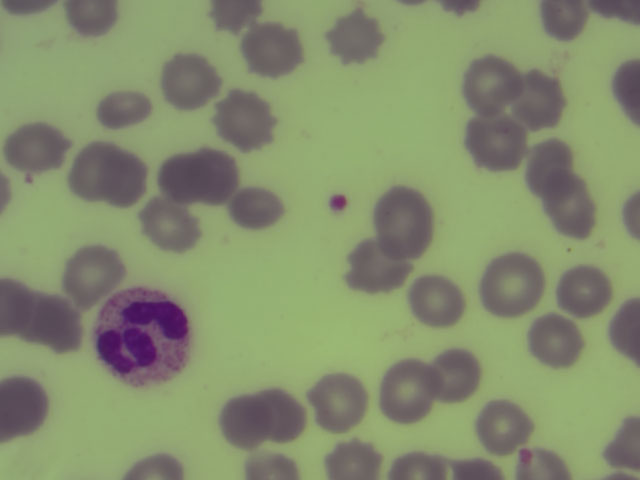Platelets: (330, 196, 346, 210)
RBC: (368, 182, 434, 256), (478, 250, 544, 317), (309, 367, 368, 430), (161, 51, 219, 107), (6, 120, 64, 176), (64, 247, 122, 303), (142, 198, 200, 254), (216, 90, 274, 146), (244, 21, 302, 77), (227, 177, 285, 233), (345, 240, 403, 296), (559, 259, 617, 315), (526, 312, 584, 368), (408, 273, 466, 329), (328, 11, 386, 67), (515, 71, 573, 127), (461, 55, 519, 111), (467, 112, 525, 168), (475, 396, 533, 452), (380, 358, 431, 418), (546, 175, 595, 237), (31, 296, 85, 352), (325, 424, 379, 480), (262, 380, 316, 436), (219, 392, 273, 448), (432, 346, 486, 402), (524, 135, 574, 194), (1, 373, 48, 434), (72, 140, 121, 198), (100, 153, 147, 206), (605, 59, 640, 130), (200, 150, 243, 207), (599, 411, 640, 467), (386, 446, 446, 480), (537, 1, 587, 41), (66, 1, 122, 36), (608, 298, 640, 359), (99, 91, 150, 129), (118, 452, 185, 480), (1, 277, 33, 335), (161, 157, 199, 203), (520, 446, 570, 480), (246, 448, 299, 480), (595, 1, 640, 32), (455, 456, 509, 480), (619, 189, 640, 241), (2, 1, 54, 20), (432, 1, 481, 16)
WBC: (98, 291, 192, 380)
